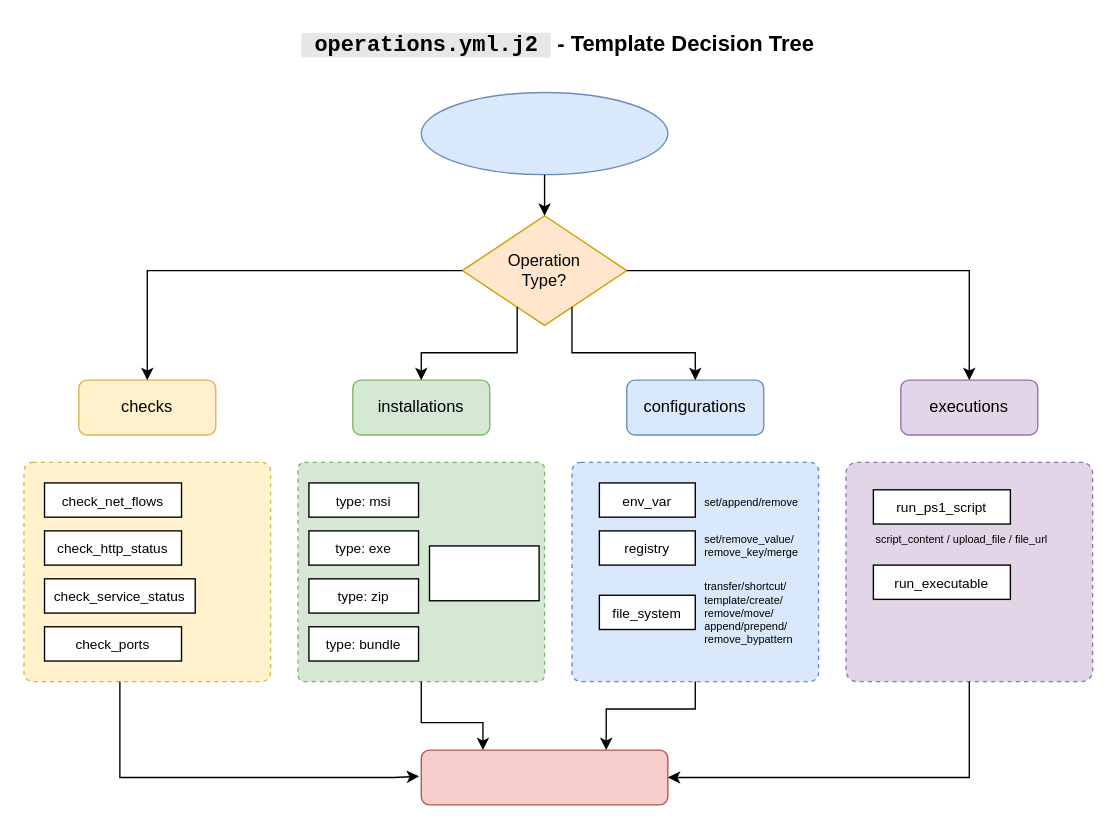
This 1117x829 diagram has some shape labels left out. The centre of each missing label's shape, as x and y in pixels:
"+ manual_registration" belongs at (483,573).
"setup_phase_operations (pre_setup / setup / post_setup)" belongs at (544,133).
"Temp Cleanup (after each operation)" belongs at (544,777).
